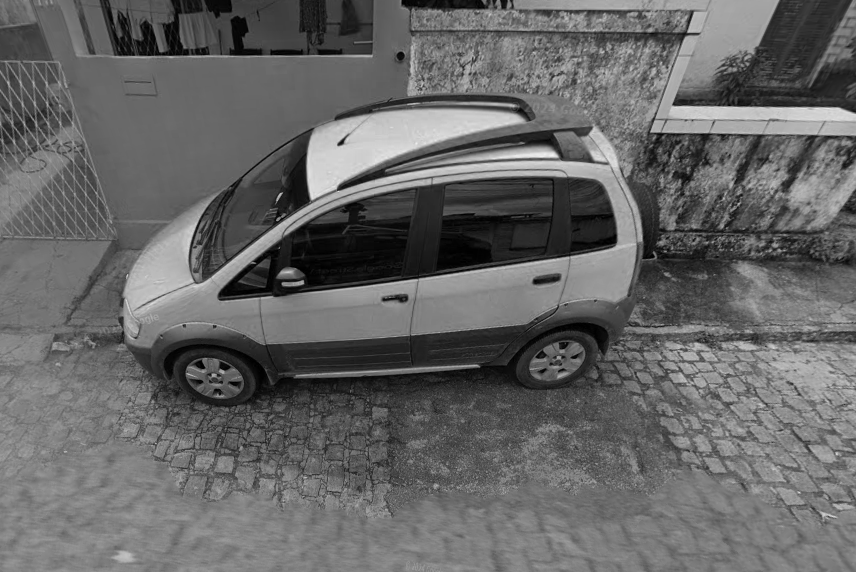car: (113, 86, 661, 409)
